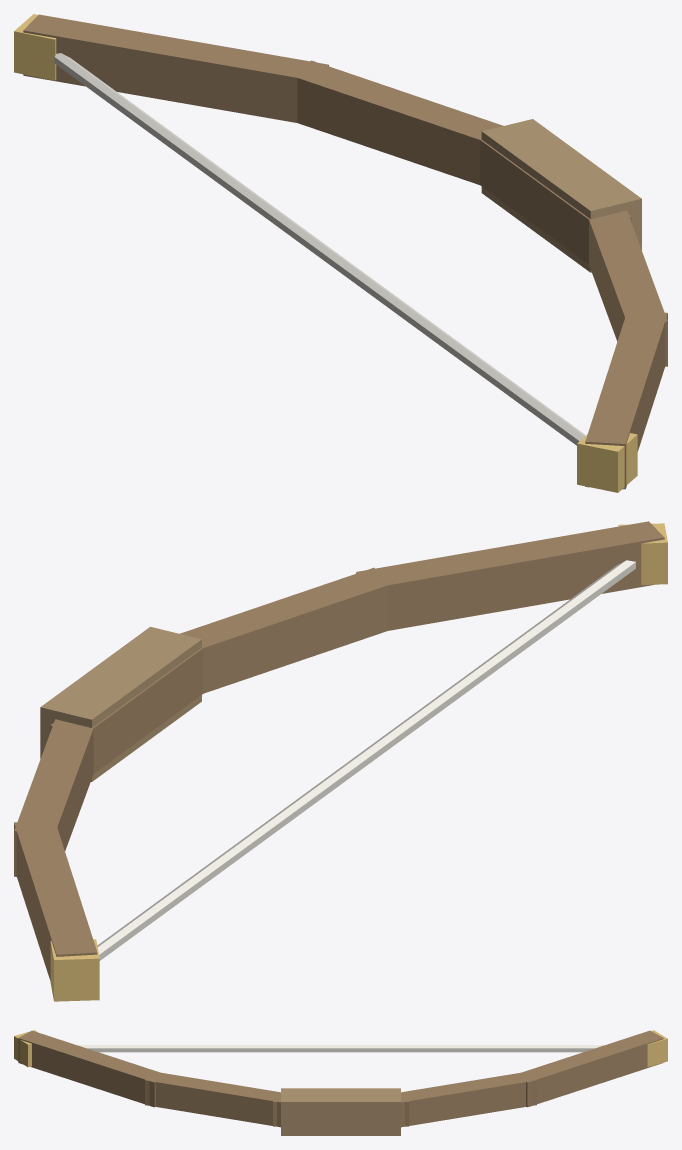
File: Bow.fbx
3 renders of one model, top to bottom at view 1: azimuth 30°, elevation 25°; view 2: azimuth 150°, elevation 25°; view 3: azimuth 270°, elevation 25°, orthographic. The views are drawn at different scales.
Parts seen in each view (by area): view 1: fam_wood, fam_string, fam_leather, fam_gold; view 2: fam_wood, fam_string, fam_leather, fam_gold; view 3: fam_wood, fam_leather, fam_string, fam_gold.
Boxes of the visible parts, x1,y1,x2,y2 form: fam_wood: (23, 14, 667, 489); fam_string: (54, 53, 585, 445); fam_leather: (481, 119, 641, 272); fam_gold: (14, 14, 637, 492); fam_wood: (14, 521, 664, 981); fam_string: (97, 560, 635, 960); fam_leather: (40, 626, 201, 781); fam_gold: (50, 523, 667, 1001); fam_wood: (18, 1030, 663, 1127); fam_leather: (281, 1088, 400, 1135); fam_string: (77, 1045, 604, 1052); fam_gold: (14, 1030, 667, 1067).
Size of the model in its own units: 1.29 by 0.2625 by 4.58.
